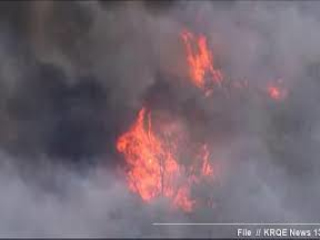fire: (111, 110, 215, 212), (180, 29, 221, 96)
smoke: (14, 10, 145, 180)
